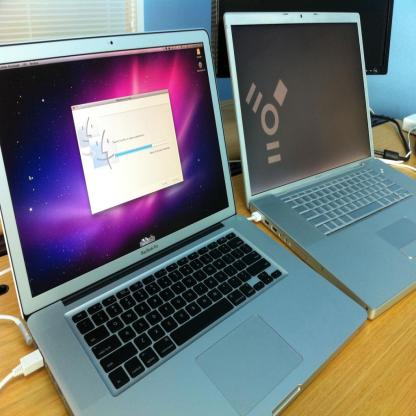board: (0, 30, 367, 414), (224, 13, 416, 320)
